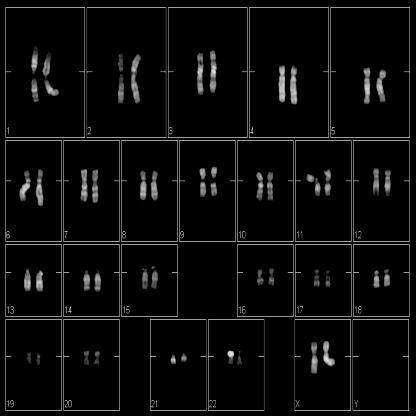1: (40, 40, 61, 110), (28, 40, 41, 110)
10: (252, 167, 266, 202), (265, 167, 278, 202)
11: (304, 168, 322, 200), (322, 168, 336, 199)
12: (382, 162, 396, 201), (369, 162, 382, 202)
13: (20, 263, 34, 294), (35, 263, 48, 294)
14: (80, 263, 94, 294), (93, 263, 107, 294)
15: (149, 261, 162, 294), (138, 261, 150, 294)
16: (266, 262, 281, 288), (254, 262, 268, 288)
17: (308, 261, 323, 294), (322, 260, 336, 294)
18: (370, 263, 382, 292), (382, 263, 394, 292)
19: (16, 342, 32, 372), (33, 343, 48, 370)
2: (127, 48, 142, 108), (116, 48, 127, 108)
20: (80, 346, 92, 370), (92, 346, 104, 370)
21: (164, 348, 180, 368), (180, 348, 189, 368)
22: (224, 346, 235, 370), (235, 346, 246, 370)
3: (194, 48, 206, 102), (205, 48, 217, 102)
4: (288, 60, 300, 109), (276, 60, 286, 110)
5: (358, 62, 374, 110), (372, 61, 388, 109)
6: (33, 166, 49, 208), (17, 165, 33, 206)
7: (90, 164, 103, 205), (77, 164, 90, 204)
8: (137, 166, 148, 206), (148, 166, 158, 206)
9: (208, 162, 220, 202), (197, 162, 209, 201)
X: (320, 337, 336, 378), (308, 338, 321, 378)
